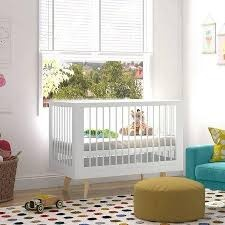crib: (49, 99, 183, 174)
